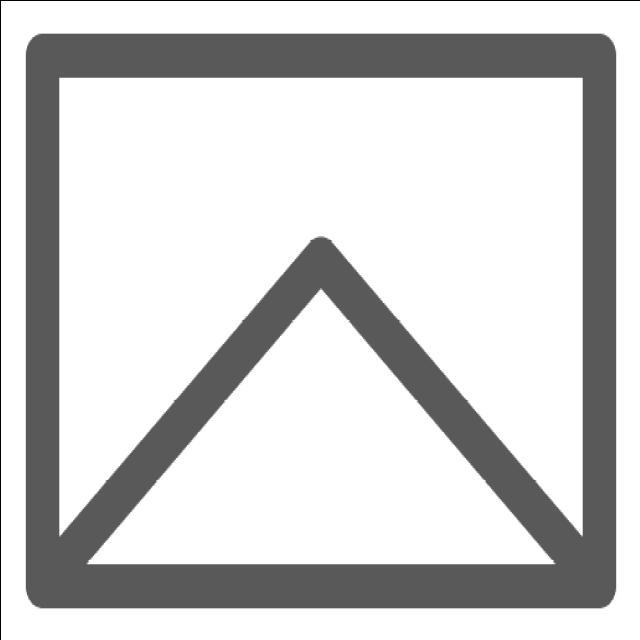letter: (11, 18, 627, 625)
